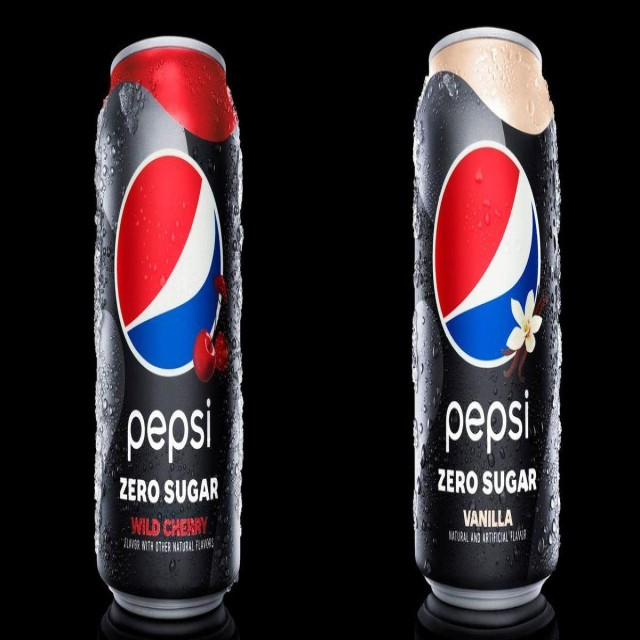pepsi: (116, 145, 225, 371), (434, 140, 539, 364)
